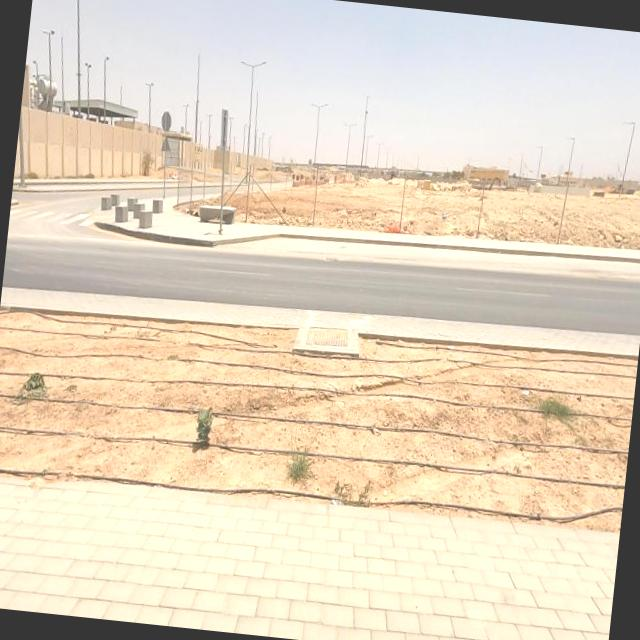debris: (366, 208, 424, 250), (428, 200, 458, 230)
